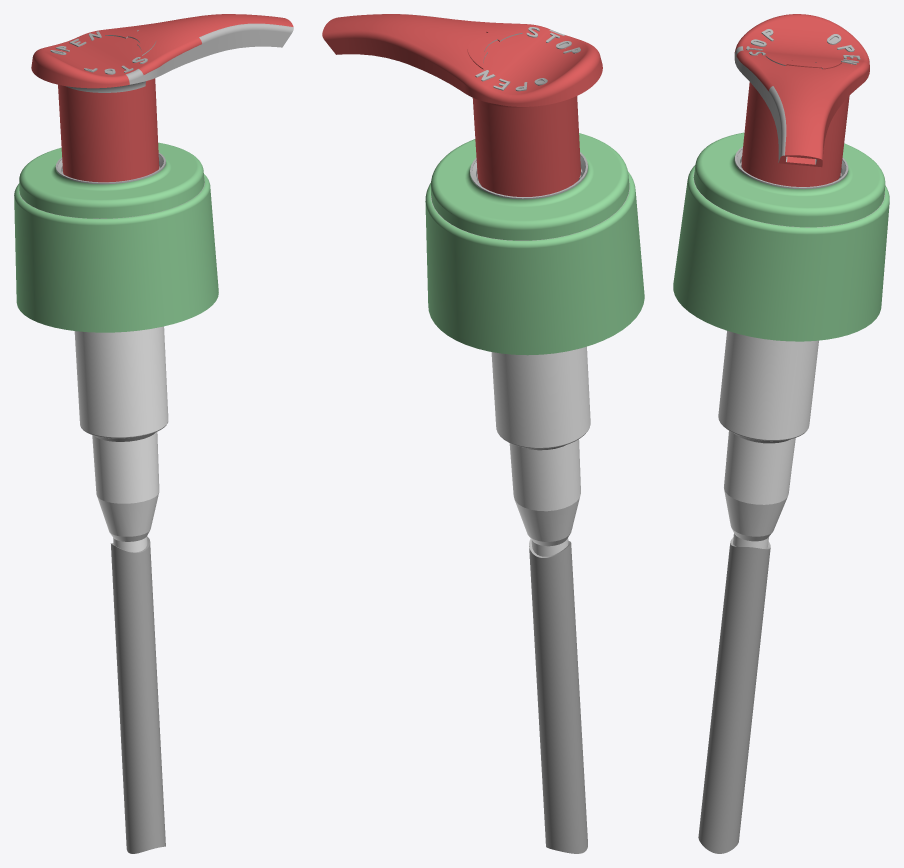
The picture shows the model from 3 angles, left to right: view 1: azimuth 30°, elevation 25°; view 2: azimuth 150°, elevation 25°; view 3: azimuth 270°, elevation 25°; orthographic projection. The views are drawn at different scales.
Visible parts, largest first — view 1: EM095082002N_1_AF0stp-1, EM035057_1_AF0stp-1, EM015017280_1_AF0stp-1, EM085006048_1stp-1; view 2: EM095082002N_1_AF0stp-1, EM035057_1_AF0stp-1, EM015017280_1_AF0stp-1, EM085006048_1stp-1; view 3: EM095082002N_1_AF0stp-1, EM035057_1_AF0stp-1, EM015017280_1_AF0stp-1, EM085006048_1stp-1.
Part boxes in pixels (x1,y1,x2,y2): EM095082002N_1_AF0stp-1: [14, 142, 218, 332]; EM035057_1_AF0stp-1: [31, 14, 293, 182]; EM015017280_1_AF0stp-1: [62, 166, 168, 552]; EM085006048_1stp-1: [110, 537, 165, 853]; EM095082002N_1_AF0stp-1: [425, 133, 644, 355]; EM035057_1_AF0stp-1: [322, 14, 602, 196]; EM015017280_1_AF0stp-1: [476, 169, 590, 556]; EM085006048_1stp-1: [529, 539, 587, 853]; EM095082002N_1_AF0stp-1: [673, 132, 889, 341]; EM035057_1_AF0stp-1: [734, 14, 869, 186]; EM015017280_1_AF0stp-1: [718, 162, 841, 548]; EM085006048_1stp-1: [698, 537, 770, 853].
Size of the model in its own units: 0.0474 by 0.1303 by 0.0318.
